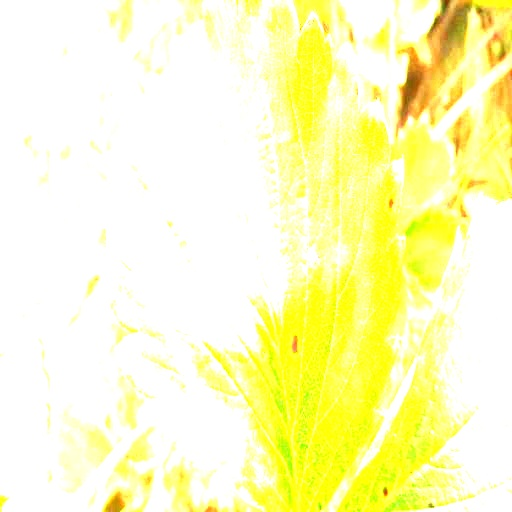Leaf Spot: (101, 0, 407, 511), (336, 192, 511, 511)
